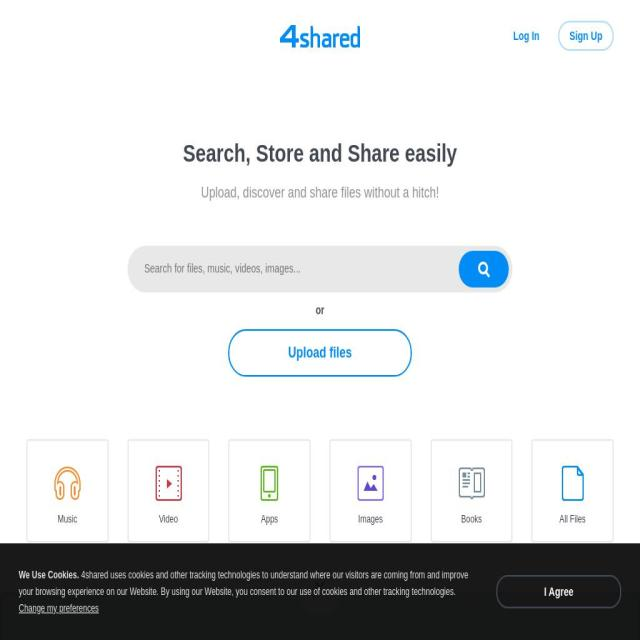button: (26, 439, 109, 543), (127, 439, 210, 543), (228, 439, 311, 543), (329, 439, 412, 543), (430, 439, 513, 543), (531, 439, 614, 543), (558, 21, 614, 51), (502, 21, 551, 51)
field: (127, 246, 513, 292)
heading: (26, 138, 614, 168), (26, 185, 614, 201)
image: (279, 21, 361, 51), (297, 591, 342, 640), (462, 252, 506, 286)
label: (228, 329, 412, 377)
link: (19, 603, 99, 614)
text: (19, 569, 469, 598), (496, 575, 622, 608), (219, 302, 421, 318), (19, 569, 79, 581)
